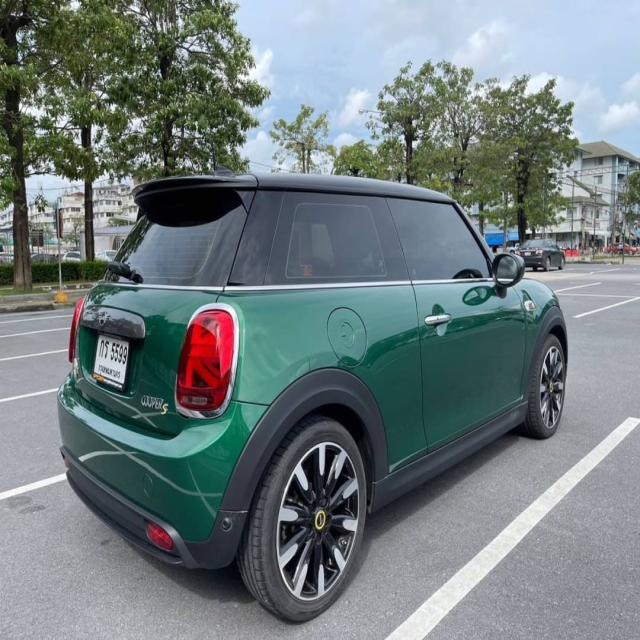license_plate: (91, 330, 135, 392)
